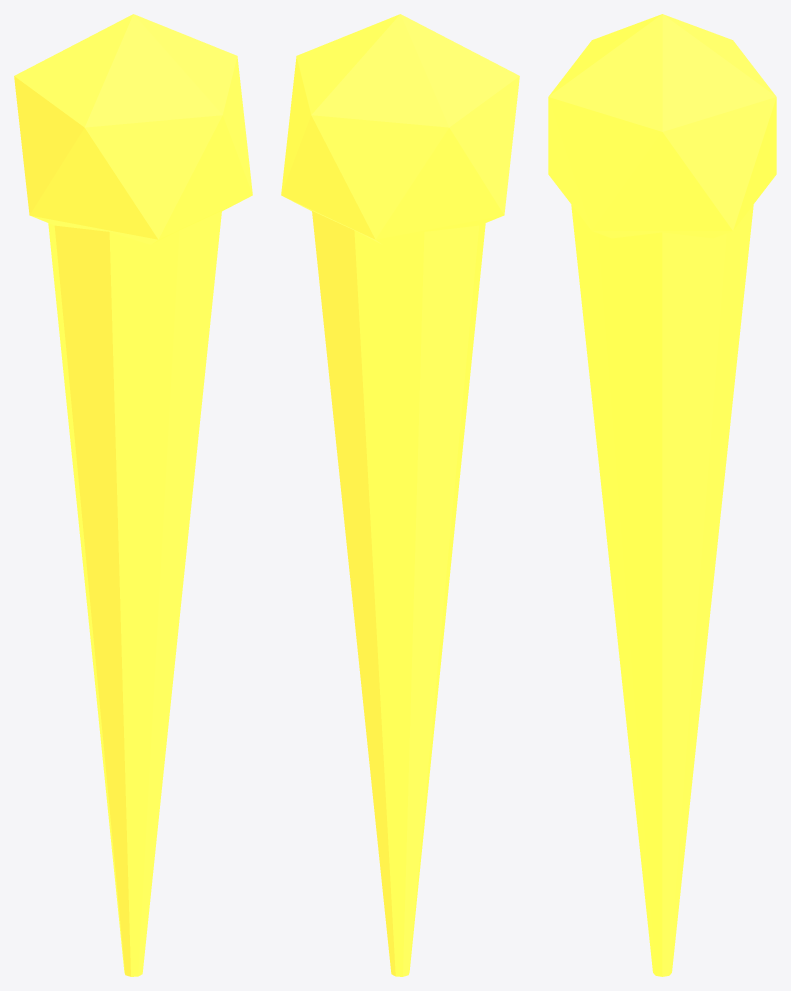
Rendered from fireball.glb.
The picture shows the model from 3 angles, left to right: view 1: azimuth 30°, elevation 25°; view 2: azimuth 150°, elevation 25°; view 3: azimuth 270°, elevation 25°; orthographic projection.
Visible parts, largest first — view 1: RunnerLuminousBolt; view 2: RunnerLuminousBolt; view 3: RunnerLuminousBolt.
Part boxes in pixels (<box>): RunnerLuminousBolt: <box>14,14,252,976</box>; RunnerLuminousBolt: <box>281,14,519,976</box>; RunnerLuminousBolt: <box>548,14,776,976</box>.
Bounding box in the file's own units: 0.3041 × 1.34 × 0.2892.
